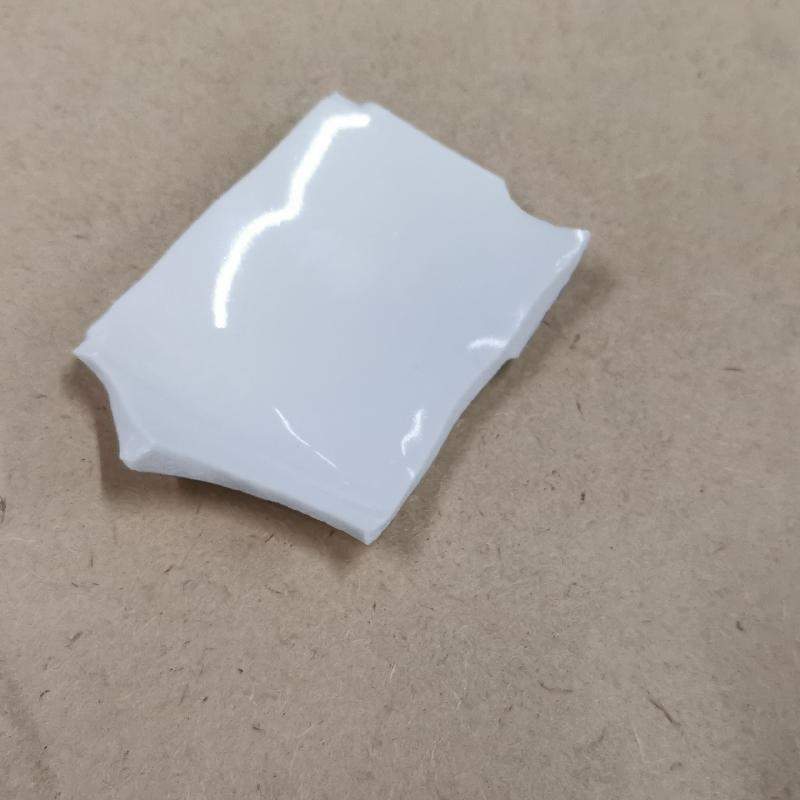ceram: (68, 86, 596, 550)
